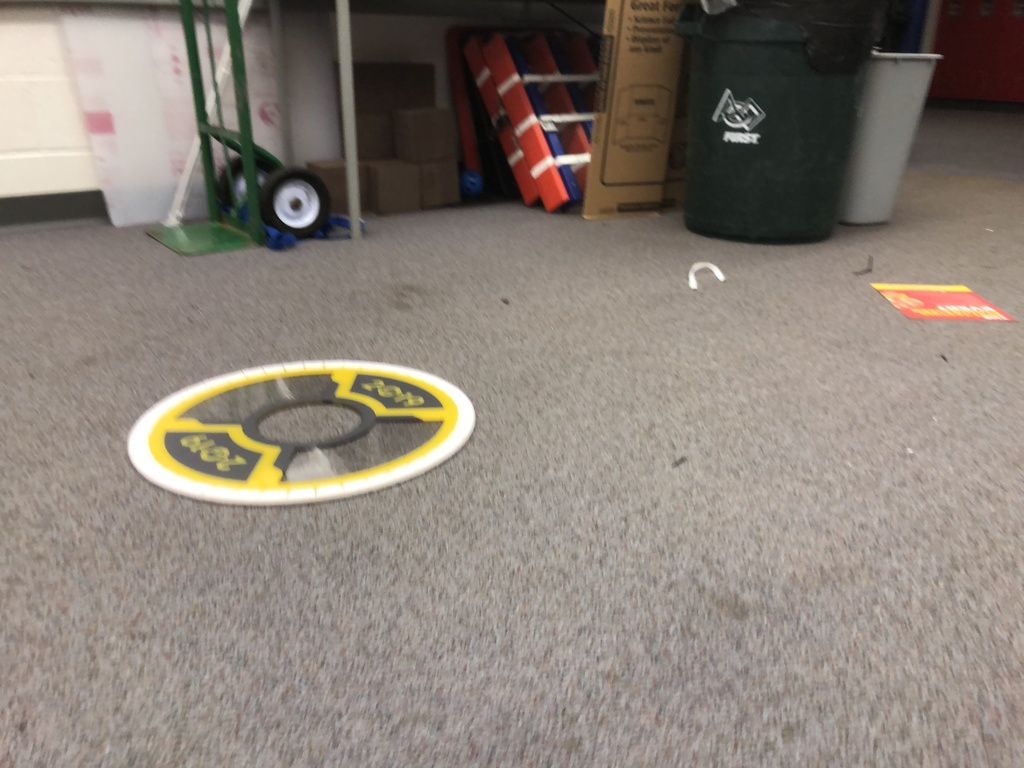hatch_panel: (120, 340, 477, 515)
